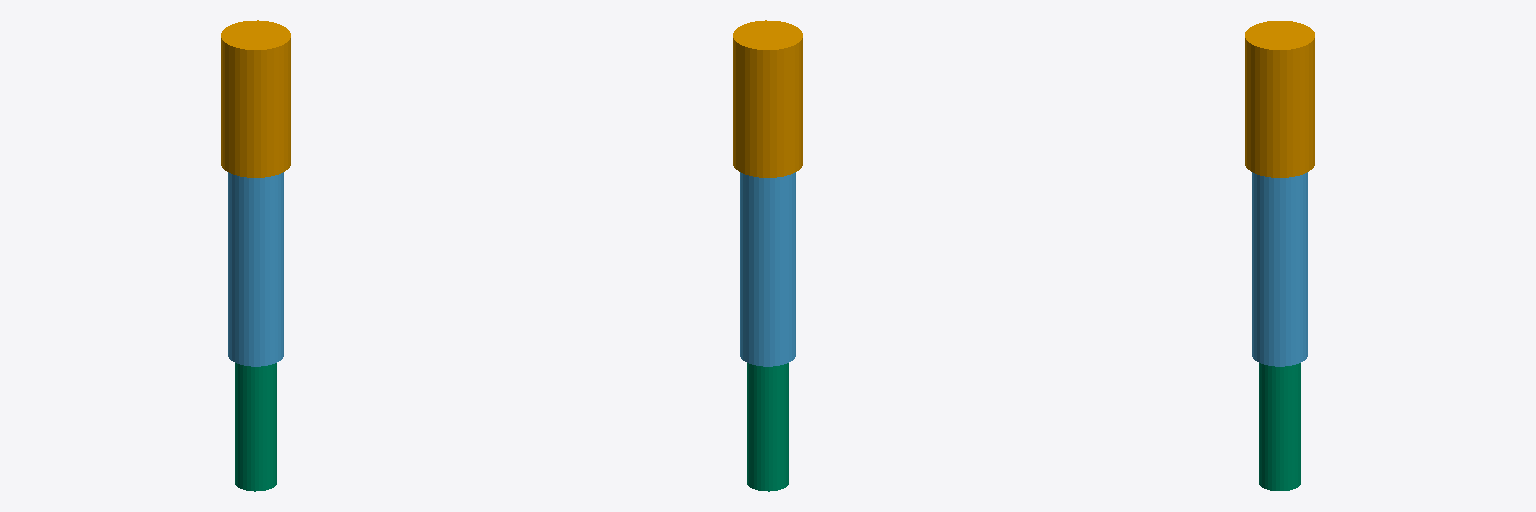
URDF robot description (r2dof):
<?xml version="1.0"?>
<robot name="r2dof">
	<link name="base_link">
		<visual>			
			<geometry>
				<cylinder length="0.2" radius="0.05"/>
			</geometry>
			<origin xyz="0 0 0"/>
		</visual>
		<collision>
			<geometry>
				<cylinder length="0.2" radius="0.05"/>
			</geometry>
			<origin xyz="0 0 0"/>
		</collision>
	</link>

	<joint name="joint1" type="continuous">
		<parent link="base_link" />
		<child link="link1" />
		<axis xyz="0 1 0" />
		<origin xyz="0 0 -0.1" />
	</joint>

	<link name="link1">
		<visual>
			<geometry>
				<cylinder length="0.3" radius="0.04"/>
			</geometry>
			<origin xyz="0 0 -0.15" />
		</visual>
		<collision>
			<geometry>
				<cylinder length="0.3" radius="0.04"/>
			</geometry>
			<origin xyz="0 0 -0.15" />
		</collision>
	</link>

	<joint name="joint2" type="continuous">
		<parent link="link1" />
		<child link="link2" />
		<axis xyz="0 1 0" />
		<origin xyz="0 0 -0.3" />
	</joint>

	<link name="link2">
		<visual>
			<geometry>
				<cylinder length="0.2" radius="0.03" />
			</geometry>
			<origin xyz="0 0 -0.1" />
		</visual>
		<collision>
			<geometry>
				<cylinder length="0.2" radius="0.03" />
			</geometry>
			<origin xyz="0 0 -0.1" />
		</collision>
	</link>
</robot>

--- Facts derived from the render (not from the file) ---
Views: 3 orthographic renders of the robot side by side, from view 1: azimuth 30°, elevation 25°; view 2: azimuth 150°, elevation 25°; view 3: azimuth 270°, elevation 25°.
Robot: r2dof — 3 links, 2 joints (2 continuous); root link base_link; default pose: every joint at zero.
Visible links, largest first — view 1: base_link, link1, link2; view 2: base_link, link1, link2; view 3: base_link, link1, link2.
Boxes of the visible links, <box> form: base_link: <box>221,20,290,177</box>; link1: <box>228,172,283,366</box>; link2: <box>235,363,276,491</box>; base_link: <box>733,20,802,177</box>; link1: <box>740,172,795,366</box>; link2: <box>747,363,788,491</box>; base_link: <box>1245,21,1314,177</box>; link1: <box>1252,172,1307,366</box>; link2: <box>1259,363,1300,490</box>.
Size in the robot's own frame: 0.1 by 0.1 by 0.7 metres.
Geometry: primitives only (box / cylinder / sphere), no mesh files.